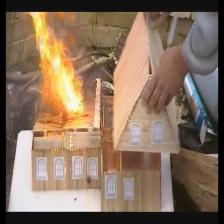fire: (30, 12, 84, 118)
